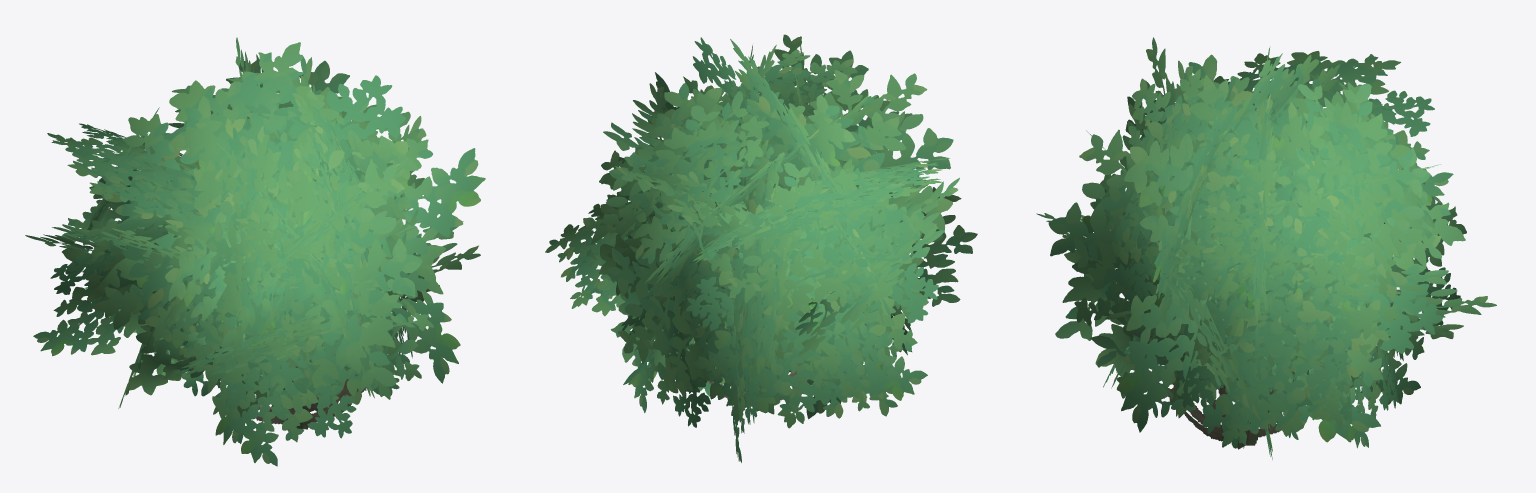
Rendered from Scene_guanmu_008.FBX.
3 renders of one model, left to right at view 1: azimuth 30°, elevation 25°; view 2: azimuth 150°, elevation 25°; view 3: azimuth 270°, elevation 25°, orthographic. The views are drawn at different scales.
Visible parts, largest first — view 1: Scene_guanmu_008_LOD0; view 2: Scene_guanmu_008_LOD0; view 3: Scene_guanmu_008_LOD0.
Boxes of the visible parts, box(x1,y1,x2,y2) form: Scene_guanmu_008_LOD0: box(25, 37, 485, 466); Scene_guanmu_008_LOD0: box(545, 34, 977, 462); Scene_guanmu_008_LOD0: box(1036, 37, 1496, 459).
Size of what is drawn, in the model's own units: 206 by 195 by 206.
